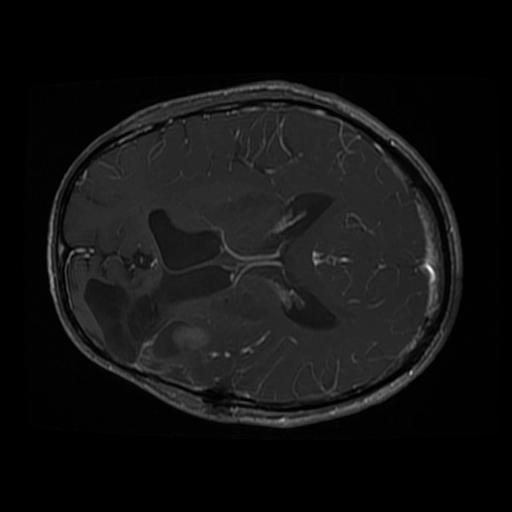glioma: (80, 275, 232, 387)
